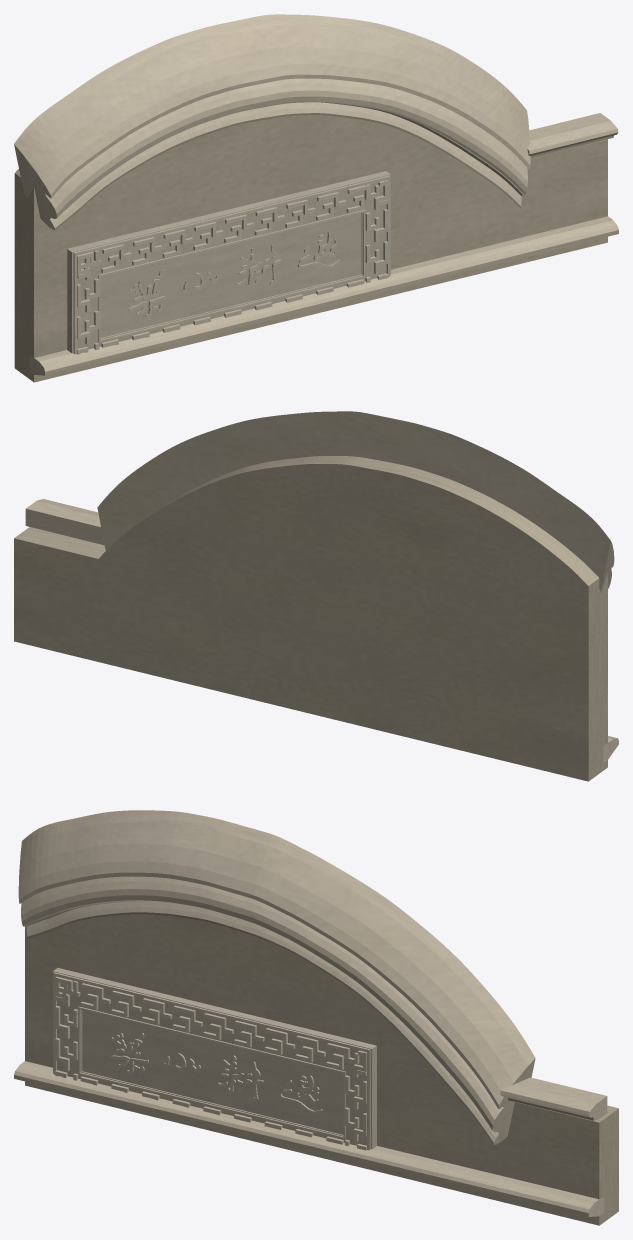
The model's file is jingan-tuigeng-xiaozhu-inscribed-courtyard-pediment-raw.glb.
3 renders of one model, top to bottom at view 1: azimuth 30°, elevation 25°; view 2: azimuth 150°, elevation 25°; view 3: azimuth 330°, elevation 25°, orthographic.
Visible parts, largest first — view 1: Segmental crest, Court wall, Tablet and frame, Lower drip, Top fret, Right return, Side fret 1, Side fret -1, Bottom fret, 题字 · 筑, 题字 · 退, 题字 · 耕; view 2: Court wall, Segmental crest, Right return; view 3: Segmental crest, Court wall, Tablet and frame, Lower drip, Top fret, Right return, Side fret -1, Side fret 1, Bottom fret, 题字 · 筑, 题字 · 退, 题字 · 耕.
Part boxes in pixels (x1,y1,x2,y2): Segmental crest: [14, 14, 530, 229]; Court wall: [14, 115, 607, 382]; Tablet and frame: [67, 171, 390, 354]; Lower drip: [29, 216, 618, 375]; Top fret: [77, 181, 388, 278]; Right return: [527, 113, 618, 157]; Side fret 1: [365, 180, 388, 282]; Side fret -1: [77, 250, 99, 354]; Bottom fret: [78, 274, 385, 353]; 题字 · 筑: [128, 270, 167, 318]; 题字 · 退: [298, 231, 340, 268]; 题字 · 耕: [235, 245, 281, 286]; Court wall: [14, 456, 607, 781]; Segmental crest: [97, 411, 614, 592]; Right return: [25, 499, 104, 545]; Segmental crest: [18, 810, 535, 1144]; Court wall: [25, 914, 618, 1225]; Tablet and frame: [53, 968, 376, 1150]; Lower drip: [14, 1061, 603, 1216]; Top fret: [56, 977, 366, 1075]; Right return: [500, 1077, 607, 1120]; Side fret -1: [55, 976, 78, 1080]; Side fret 1: [345, 1047, 366, 1150]; Bottom fret: [58, 1071, 365, 1149]; 题字 · 筑: [110, 1033, 148, 1075]; 题字 · 退: [280, 1075, 322, 1114]; 题字 · 耕: [217, 1055, 263, 1102].
Bounding box in the file's own units: 4.02 × 2 × 0.386.
Materials: 5 (5 with a texture image).
